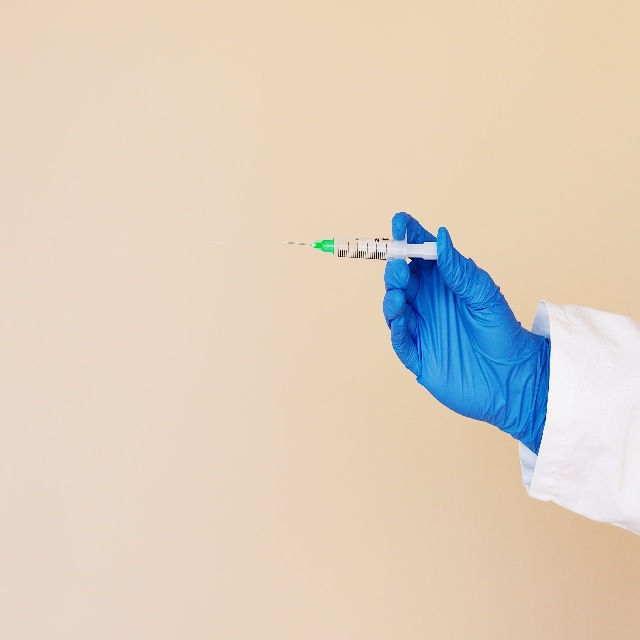Guantes: (382, 209, 548, 455)
